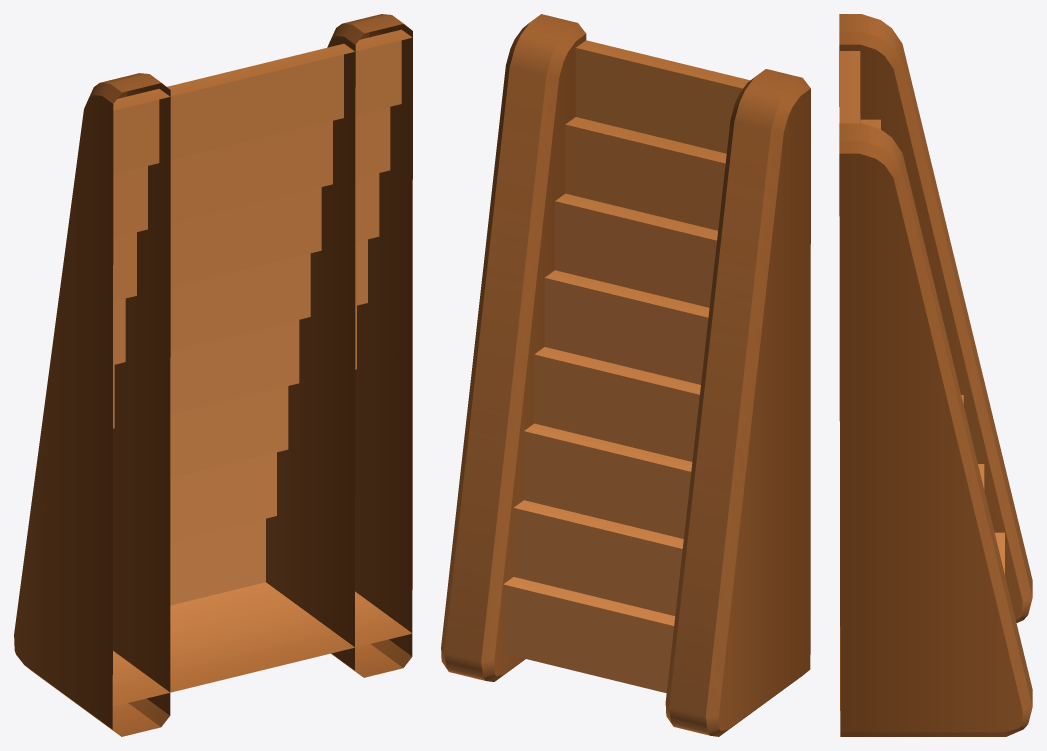
The model's file is Stairs 01.FBX.
3 renders of one model, left to right at view 1: azimuth 30°, elevation 25°; view 2: azimuth 150°, elevation 25°; view 3: azimuth 270°, elevation 25°, orthographic. The views are drawn at different scales.
Parts seen in each view (by area): view 1: Stairs 01; view 2: Stairs 01; view 3: Stairs 01.
Boxes of the visible parts, x1,y1,x2,y2 form: Stairs 01: [14, 14, 412, 736]; Stairs 01: [441, 14, 810, 736]; Stairs 01: [839, 14, 1032, 736].
Bounding box in the file's own units: 323 × 665 × 195.
1 material, 1 textured.
